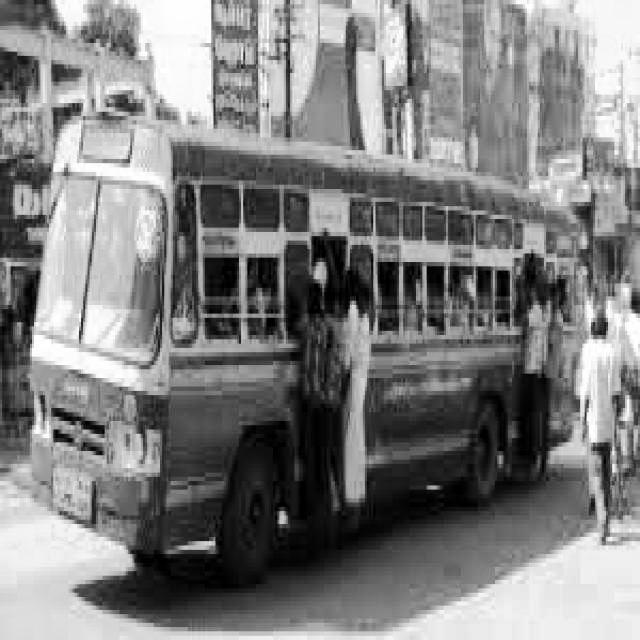Bus: (29, 112, 577, 558)
